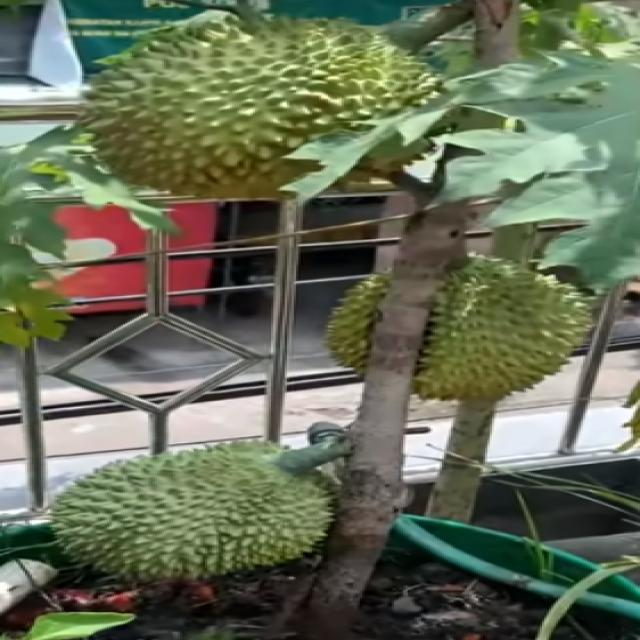immature: (69, 17, 439, 195), (317, 245, 594, 411), (47, 439, 339, 578)
